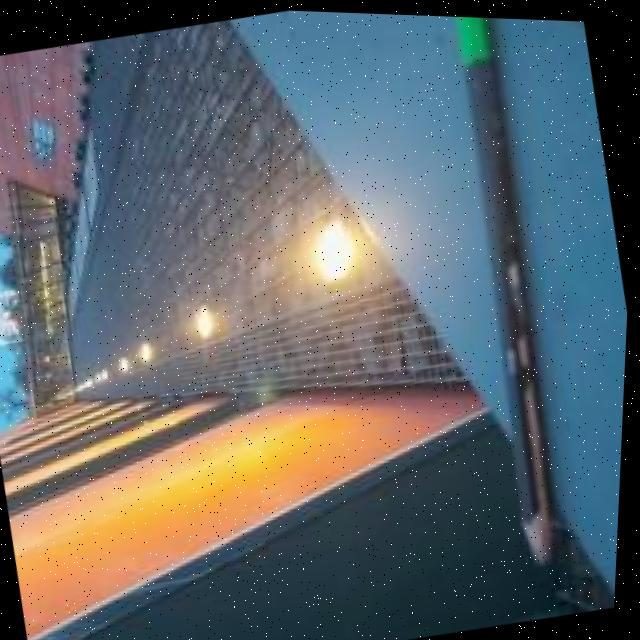pencil: (430, 13, 592, 566)
